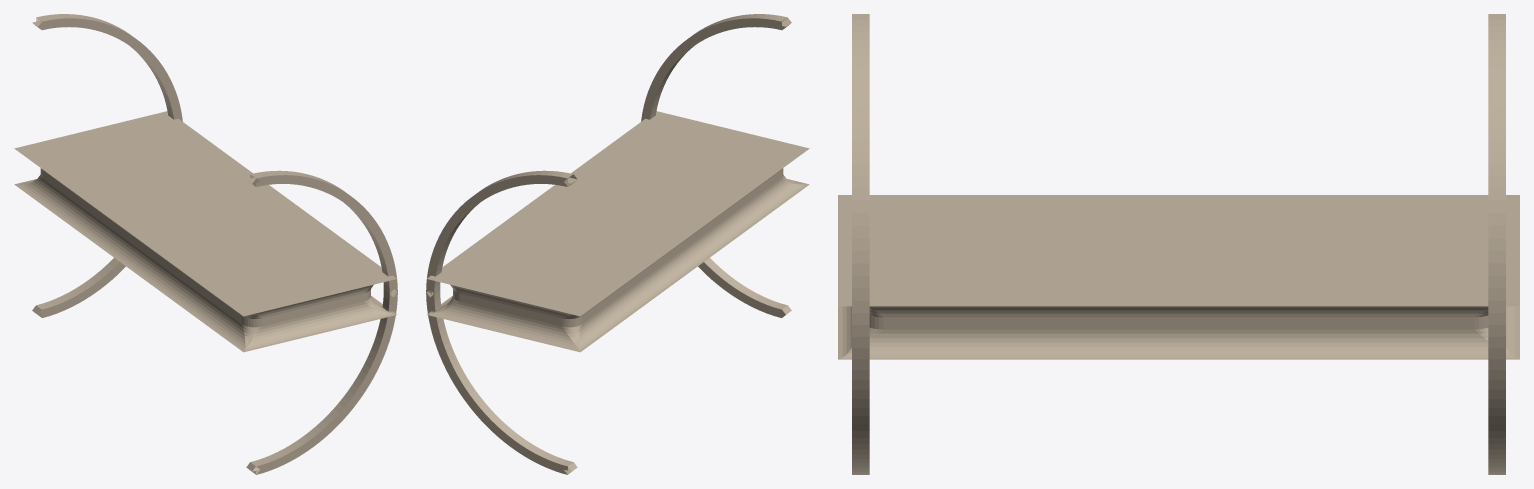
The model's file is 3dcodebench_WallShelf_seed0.glb.
3 renders of one model, left to right at view 1: azimuth 30°, elevation 25°; view 2: azimuth 150°, elevation 25°; view 3: azimuth 270°, elevation 25°, orthographic. The views are drawn at different scales.
Parts seen in each view (by area): view 1: object; view 2: object; view 3: object.
Part boxes in pixels (left/top/right/bottom): object: left=14, top=14, right=397, bottom=474; object: left=426, top=14, right=809, bottom=474; object: left=838, top=14, right=1519, bottom=474.
Bounding box in the file's own units: 0.1617 × 0.2881 × 0.4042.
